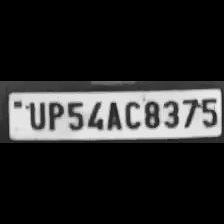3: (160, 97, 180, 129)
4: (85, 96, 105, 130)
5: (63, 98, 85, 132), (197, 94, 219, 128)
7: (178, 96, 198, 128)
8: (141, 97, 161, 129)
A: (104, 98, 120, 130)
C: (122, 97, 142, 129)
P: (44, 99, 64, 131)
U: (24, 99, 46, 130)
